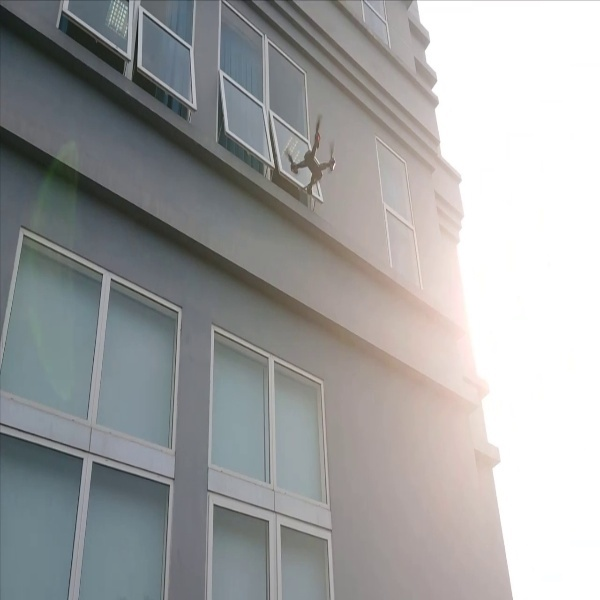drone: (280, 111, 347, 201)
